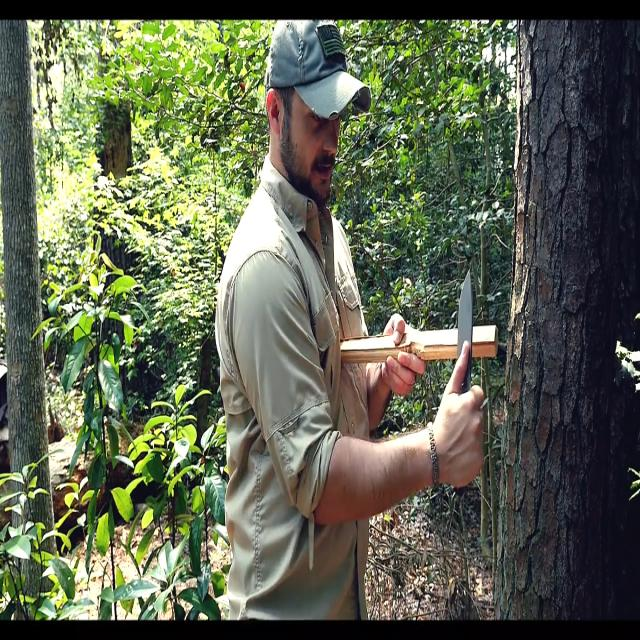knife: (459, 261, 477, 394)
